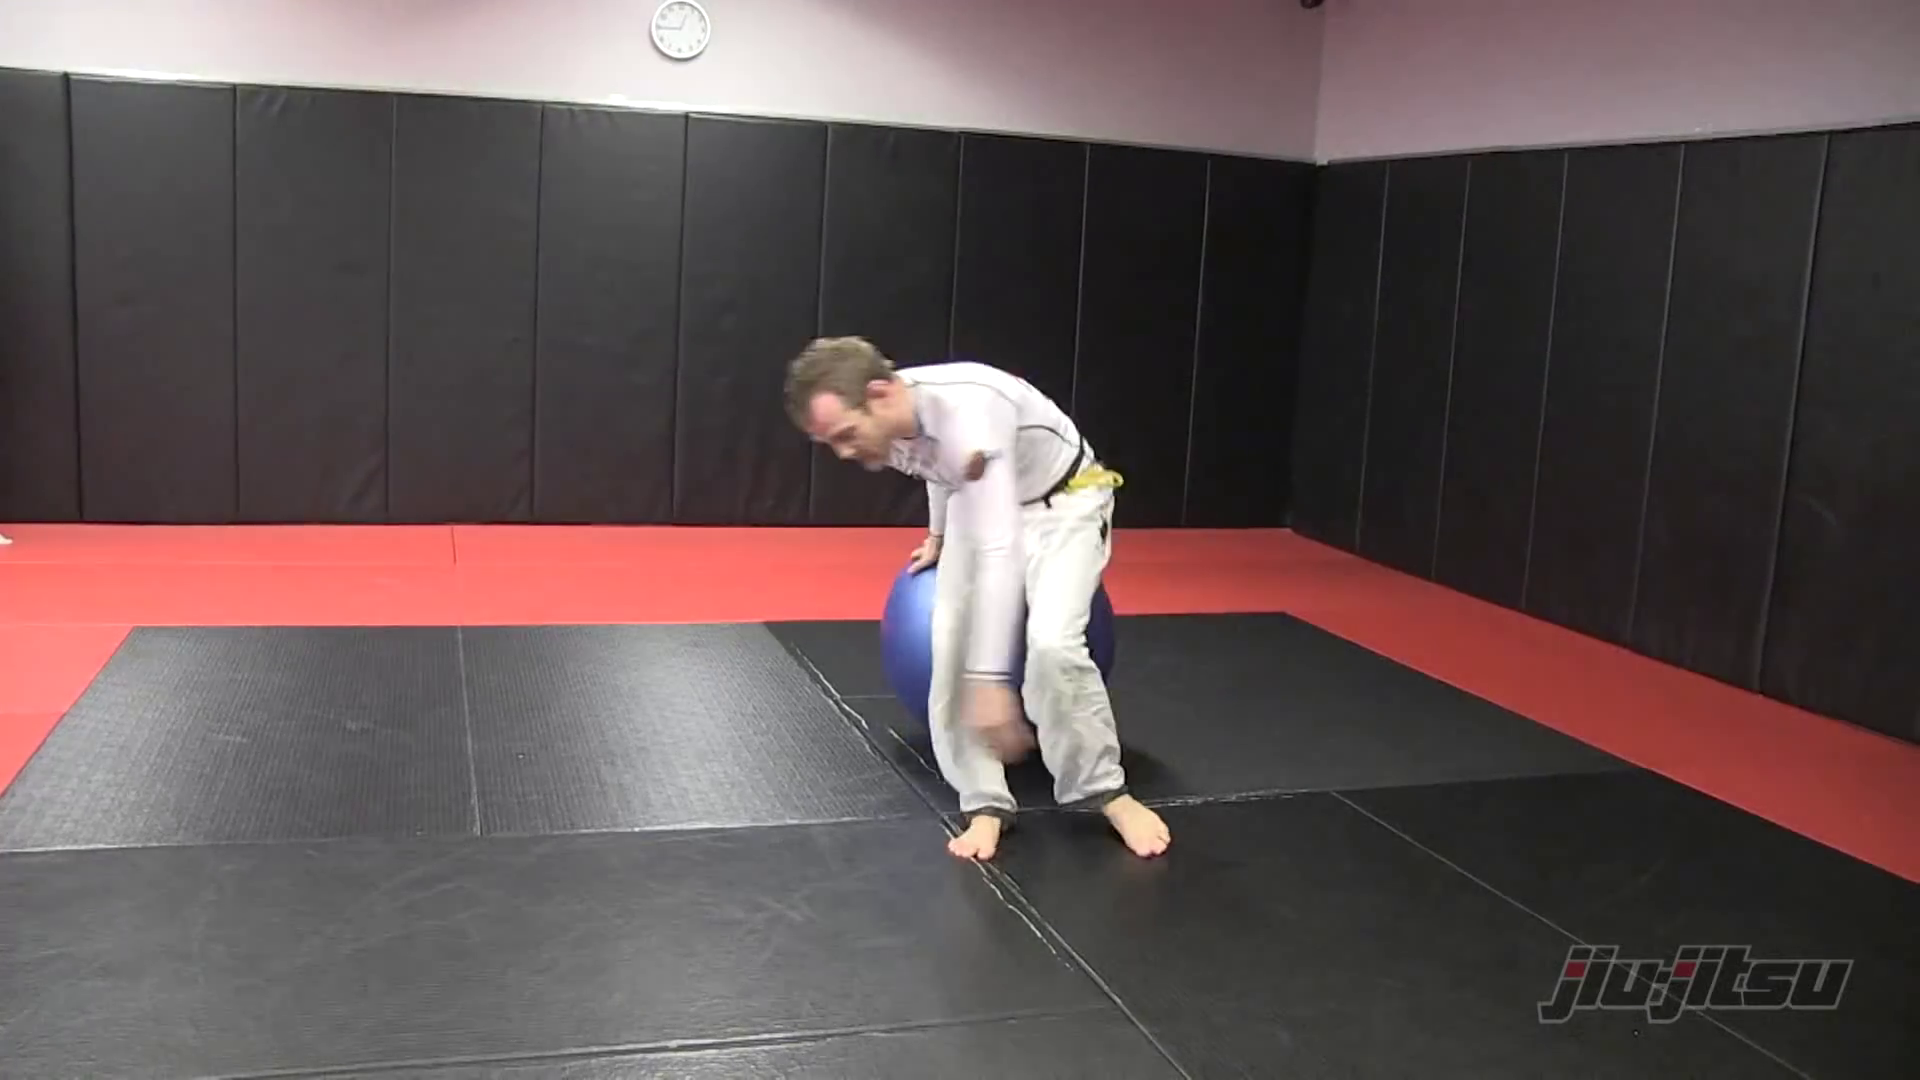yogaball: (862, 541, 1133, 741)
